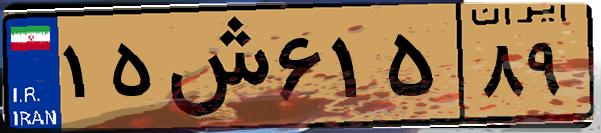1: (330, 28, 385, 110), (57, 26, 110, 100)
5: (385, 28, 445, 110), (110, 28, 158, 98)
6: (270, 28, 330, 110)
8: (475, 38, 525, 113)
9: (525, 38, 570, 115)
ش: (158, 12, 270, 120)
